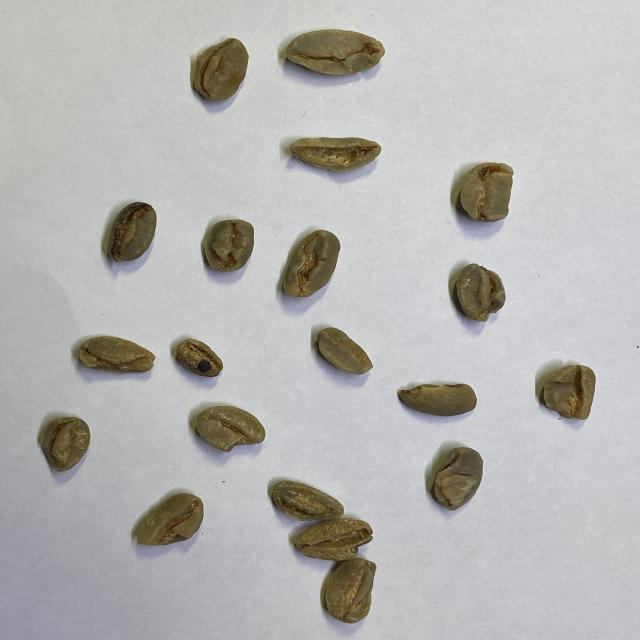bad: (281, 26, 388, 79), (278, 227, 342, 300), (189, 35, 251, 108), (133, 490, 207, 550), (317, 555, 379, 626), (288, 134, 384, 176), (192, 404, 268, 456), (101, 198, 159, 266), (538, 361, 600, 423), (292, 517, 377, 562), (450, 260, 508, 325), (428, 446, 485, 512), (456, 160, 514, 224), (74, 333, 157, 377), (270, 478, 346, 523), (40, 414, 93, 474), (313, 325, 375, 376), (394, 380, 477, 418), (201, 217, 256, 274), (174, 336, 226, 382)
